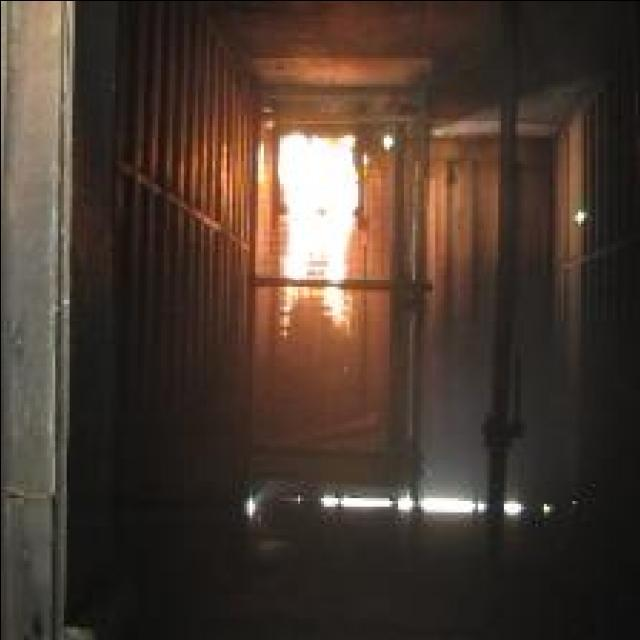Fire: (274, 134, 357, 334)
